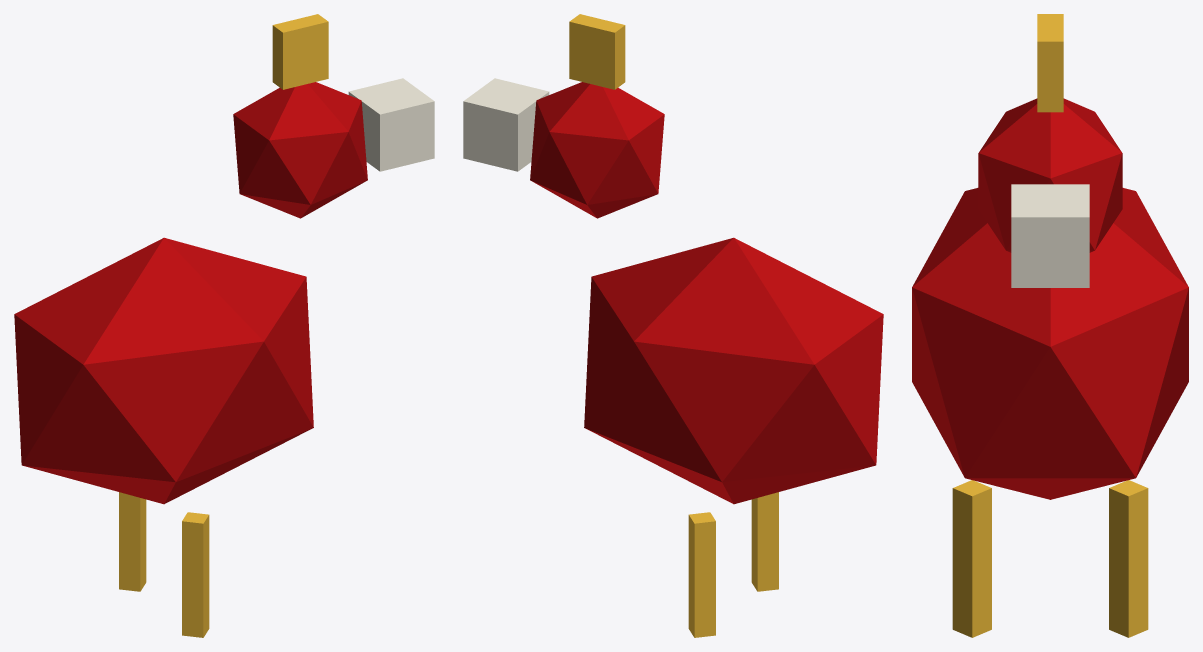
The model's file is Mob_OR_DicebeakHen_02.glb.
3 renders of one model, left to right at view 1: azimuth 30°, elevation 25°; view 2: azimuth 150°, elevation 25°; view 3: azimuth 270°, elevation 25°, orthographic. The views are drawn at different scales.
Visible parts, largest first — view 1: Mob_OR_DicebeakHen_02; view 2: Mob_OR_DicebeakHen_02; view 3: Mob_OR_DicebeakHen_02.
Boxes of the visible parts, x1=… form: Mob_OR_DicebeakHen_02: x1=14, y1=14, x2=434, y2=637; Mob_OR_DicebeakHen_02: x1=463, y1=14, x2=883, y2=637; Mob_OR_DicebeakHen_02: x1=912, y1=14, x2=1188, y2=637.
Size of the model in its own units: 0.4365 by 0.58 by 0.2127.
